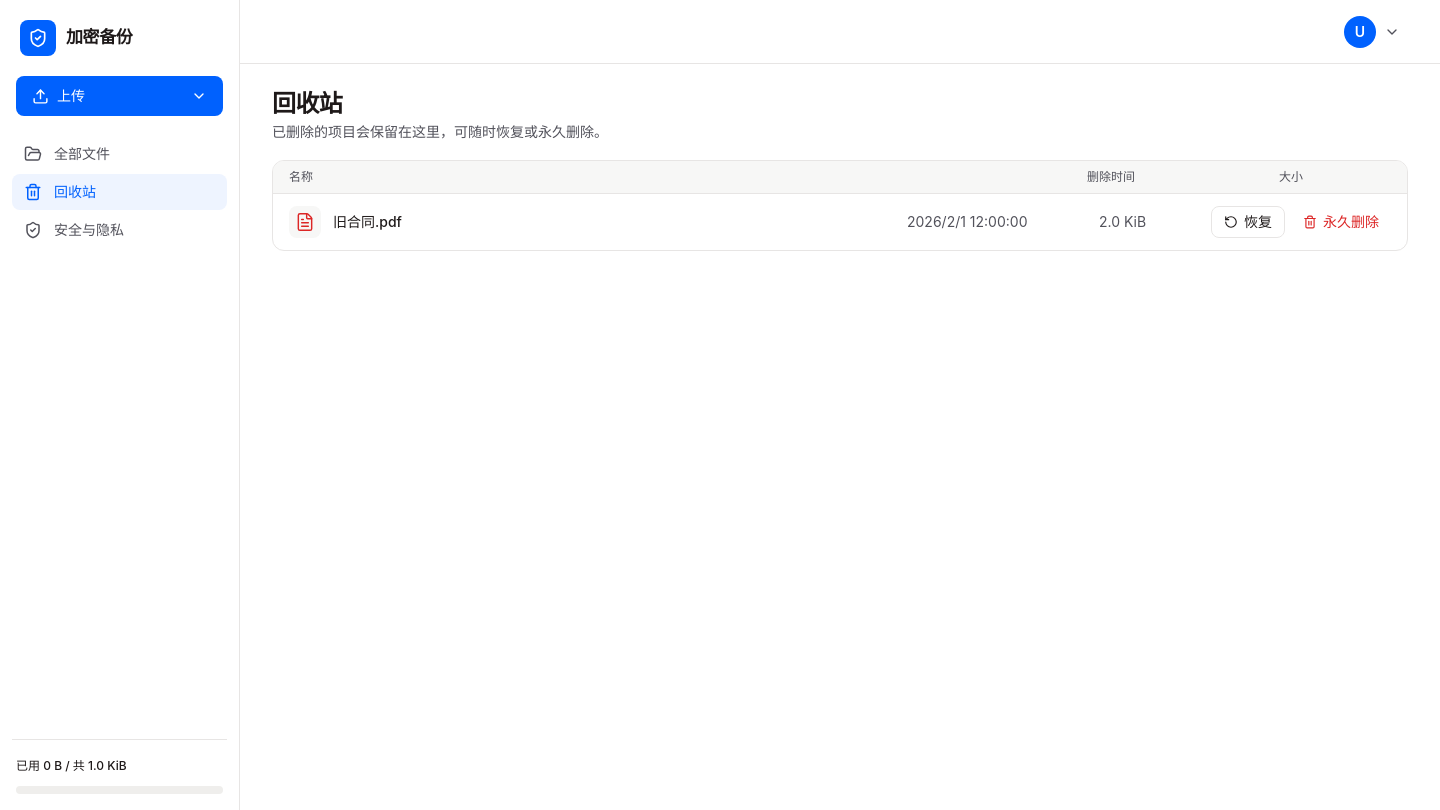
Test case: 回收站视图 › 原位置不可用时打开文件夹选择器
Expected: the row with test id "trash-item" is shown, [289,206,1391,238]
Click the button with aria-label "恢复 旧合同.pdf" at point(1248, 222), box [1211,206,1285,238]
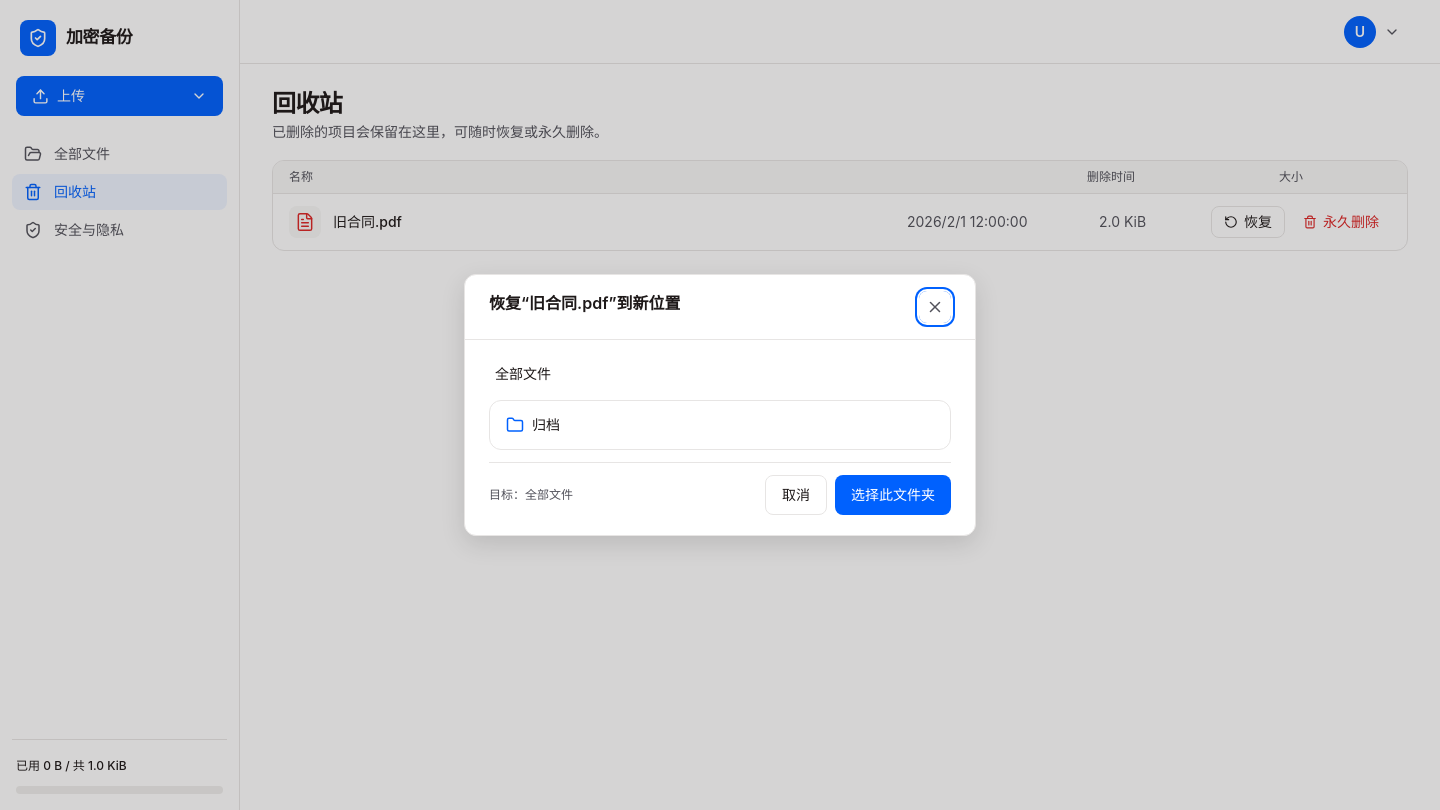
Result: the dialog "恢复“旧合同.pdf”到新位置" is shown at [464,274,976,536]
Result: the element with test id "folder-picker" is shown at [489,360,951,515]
